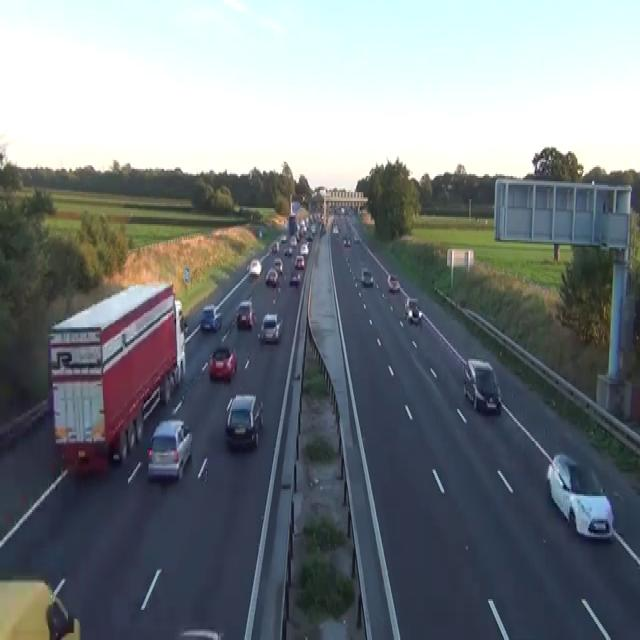Car: (546, 452, 614, 540), (0, 574, 81, 638), (146, 418, 192, 480), (463, 358, 501, 414), (225, 393, 263, 448), (208, 345, 237, 380), (258, 313, 283, 343), (235, 299, 256, 329), (200, 304, 222, 331), (173, 628, 226, 638), (404, 297, 422, 323), (175, 298, 187, 332), (248, 258, 262, 276), (265, 267, 278, 286), (387, 274, 400, 292), (361, 267, 373, 286), (289, 270, 301, 284), (273, 258, 283, 274), (294, 254, 305, 268), (299, 242, 309, 254), (271, 240, 279, 252), (319, 222, 326, 235), (289, 235, 296, 247), (343, 237, 351, 247), (332, 224, 339, 235), (305, 231, 312, 242), (284, 247, 292, 256), (353, 234, 360, 242), (280, 234, 287, 242), (310, 224, 316, 233), (258, 228, 262, 238), (340, 206, 345, 214), (300, 194, 305, 202), (245, 263, 249, 272)
Truck: (47, 281, 186, 473)
